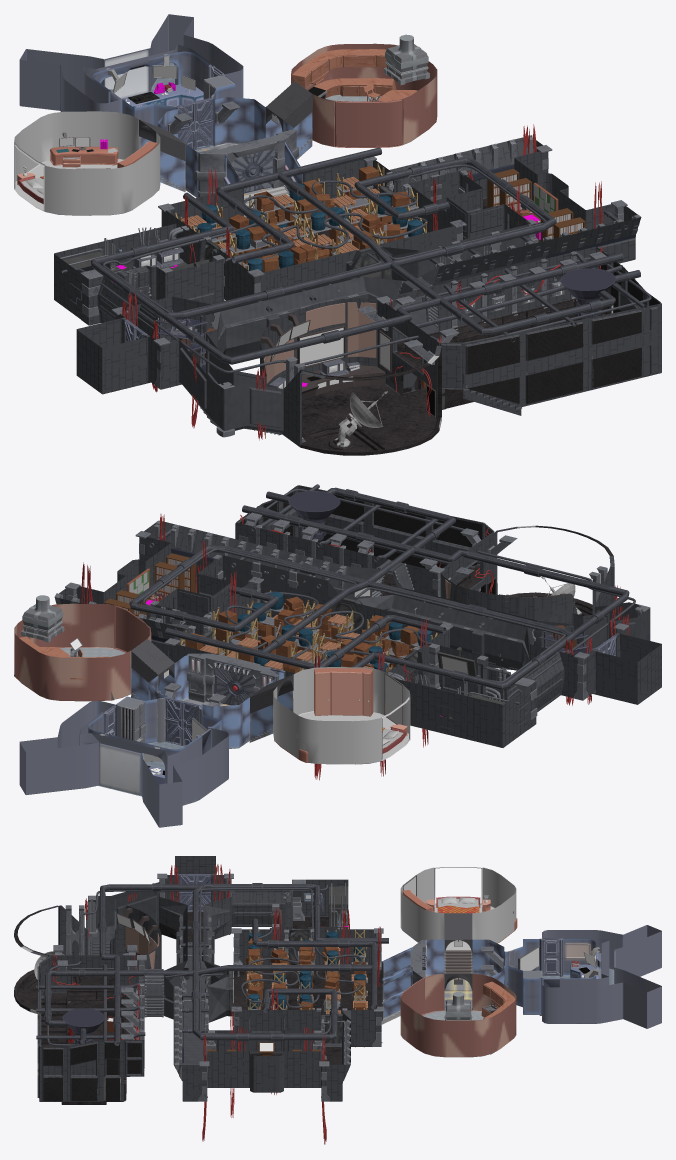
The model's file is Finally(08.03).fbx.
3 views of the same model, one above another, from view 1: azimuth 30°, elevation 25°; view 2: azimuth 150°, elevation 25°; view 3: azimuth 270°, elevation 25° (orthographic). The views are drawn at different scales.
Parts seen in each view (by area): view 1: Pipes, GeneratorBase, HallsBase, TarelkaBase, DocksBase, SleepBase, BetweenBase, ArhivBaseBase, Metall, ServerBase, KitchenBase, SkladMiniBase (+17 smaller); view 2: Pipes, DocksBase, HallsBase, KitchenBase, GeneratorBase, ServerBase, BetweenBase, Metall, SleepBase, ArhivBaseBase, SkladMiniBase, TarelkaBase (+12 smaller); view 3: Pipes, DocksBase, GeneratorBase, ArhivBaseBase, HallsBase, Metall, KitchenBase, SkladBase, BetweenBase, SleepBase, TarelkaBase, ServerBase (+10 smaller).
Boxes of the visible parts, <box> form: Pipes: <box>61,147,651,373</box>; GeneratorBase: <box>384,246,661,415</box>; HallsBase: <box>179,224,552,435</box>; TarelkaBase: <box>260,298,441,455</box>; DocksBase: <box>19,14,243,150</box>; SleepBase: <box>14,111,160,215</box>; BetweenBase: <box>139,81,312,217</box>; ArhivBaseBase: <box>390,137,641,263</box>; Metall: <box>81,101,640,442</box>; ServerBase: <box>54,223,223,339</box>; KitchenBase: <box>291,43,437,147</box>; SkladMiniBase: <box>76,296,226,394</box>; Pipes: <box>129,484,635,704</box>; DocksBase: <box>19,696,228,827</box>; HallsBase: <box>222,540,650,670</box>; KitchenBase: <box>14,603,151,701</box>; GeneratorBase: <box>235,485,494,596</box>; ServerBase: <box>390,645,563,747</box>; BetweenBase: <box>130,639,293,748</box>; Metall: <box>54,512,649,729</box>; SleepBase: <box>273,667,410,764</box>; ArhivBaseBase: <box>56,521,241,656</box>; SkladMiniBase: <box>522,613,661,704</box>; TarelkaBase: <box>440,525,614,668</box>; Pipes: <box>36,883,388,1064</box>; DocksBase: <box>505,925,661,1028</box>; GeneratorBase: <box>37,956,144,1104</box>; ArhivBaseBase: <box>173,1010,350,1101</box>; HallsBase: <box>86,882,234,1062</box>; Metall: <box>53,873,504,1101</box>; KitchenBase: <box>400,974,516,1057</box>; SkladBase: <box>233,929,383,1046</box>; BetweenBase: <box>381,913,504,1024</box>; SleepBase: <box>400,867,516,950</box>; TarelkaBase: <box>14,905,161,1016</box>; ServerBase: <box>231,879,348,929</box>.
Size of the model in its own units: 2893 by 875 by 3779.
